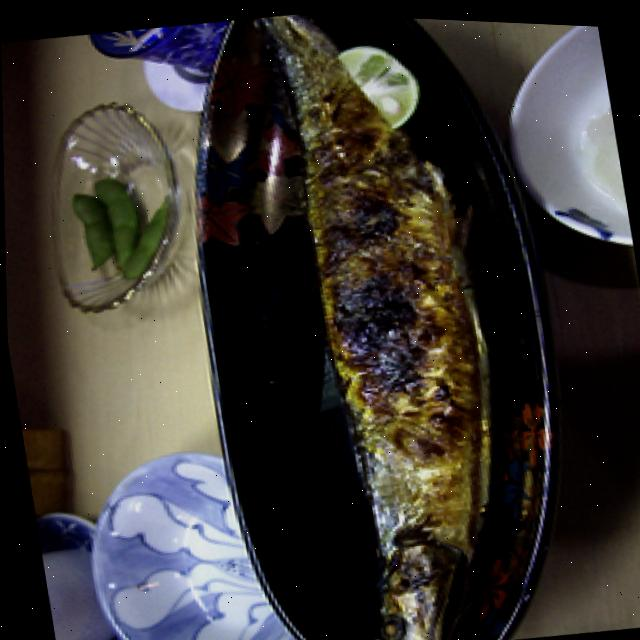熟制海鲜: (233, 8, 578, 640)
